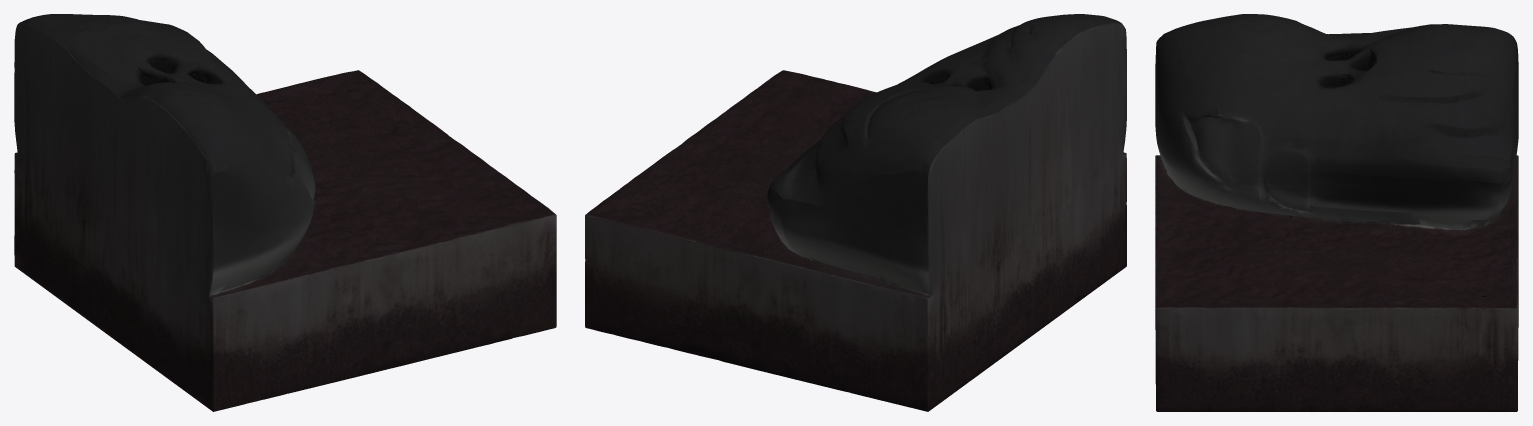
The picture shows the model from 3 angles, left to right: view 1: azimuth 30°, elevation 25°; view 2: azimuth 150°, elevation 25°; view 3: azimuth 270°, elevation 25°; orthographic projection. The views are drawn at different scales.
Visible parts, largest first — view 1: world; view 2: world; view 3: world.
Part boxes in pixels (bbox=[...]): world: bbox=[14, 14, 556, 411]; world: bbox=[585, 14, 1126, 411]; world: bbox=[1155, 14, 1518, 411].
Size of the model in its own units: 1.2 by 0.915 by 1.2.
Materials: 1 (1 with a texture image).
